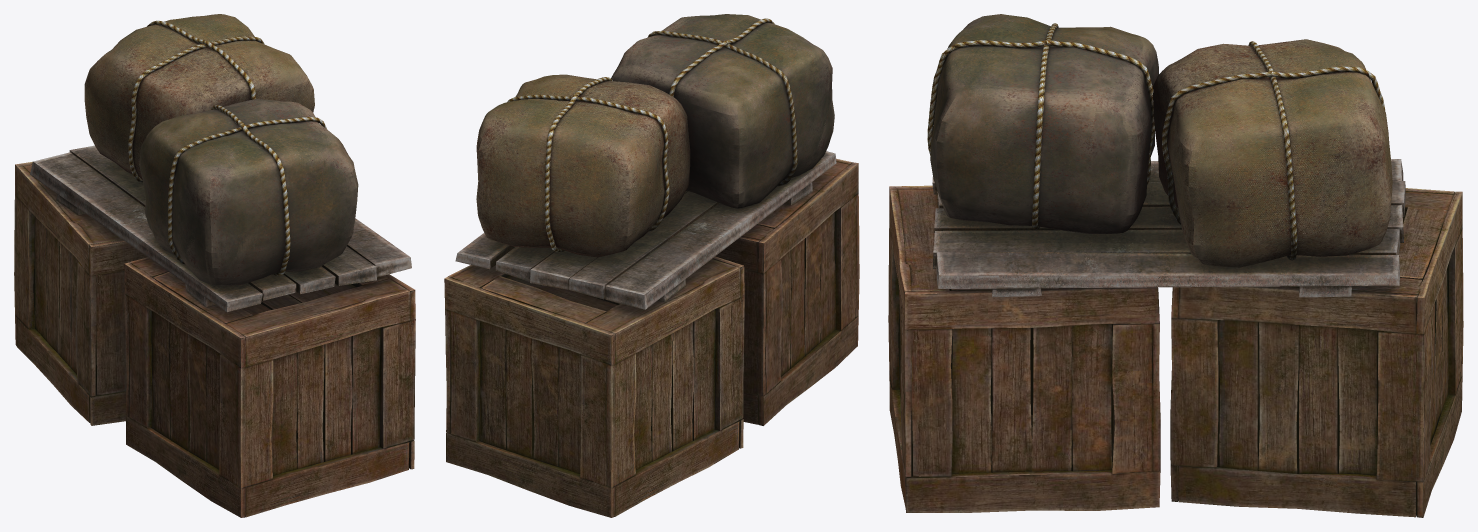
The model's file is Boxes.fbx.
The picture shows the model from 3 angles, left to right: view 1: azimuth 30°, elevation 25°; view 2: azimuth 150°, elevation 25°; view 3: azimuth 270°, elevation 25°; orthographic projection. The views are drawn at different scales.
Parts seen in each view (by area): view 1: prim1.001, prim0, prim1.002, prim0.002, prim0.001; view 2: prim1.002, prim0.002, prim0, prim1.001, prim0.001; view 3: prim1.002, prim1.001, prim0.002, prim0, prim0.001.
Boxes of the visible parts, x1,y1,x2,y2 form: prim1.001: (124,257,415,517); prim0: (139,99,358,285); prim1.002: (14,162,147,425); prim0.002: (84,14,314,182); prim0.001: (30,145,411,312); prim1.002: (444,256,744,517); prim0.002: (476,74,690,257); prim0: (611,14,834,208); prim1.001: (715,158,859,425); prim0.001: (455,151,836,309); prim1.002: (1170,188,1463,517); prim1.001: (888,185,1160,512); prim0.002: (1152,39,1392,267); prim0: (927,14,1158,233); prim0.001: (932,159,1405,297).
Size of the model in its own units: 112 by 163 by 208.
